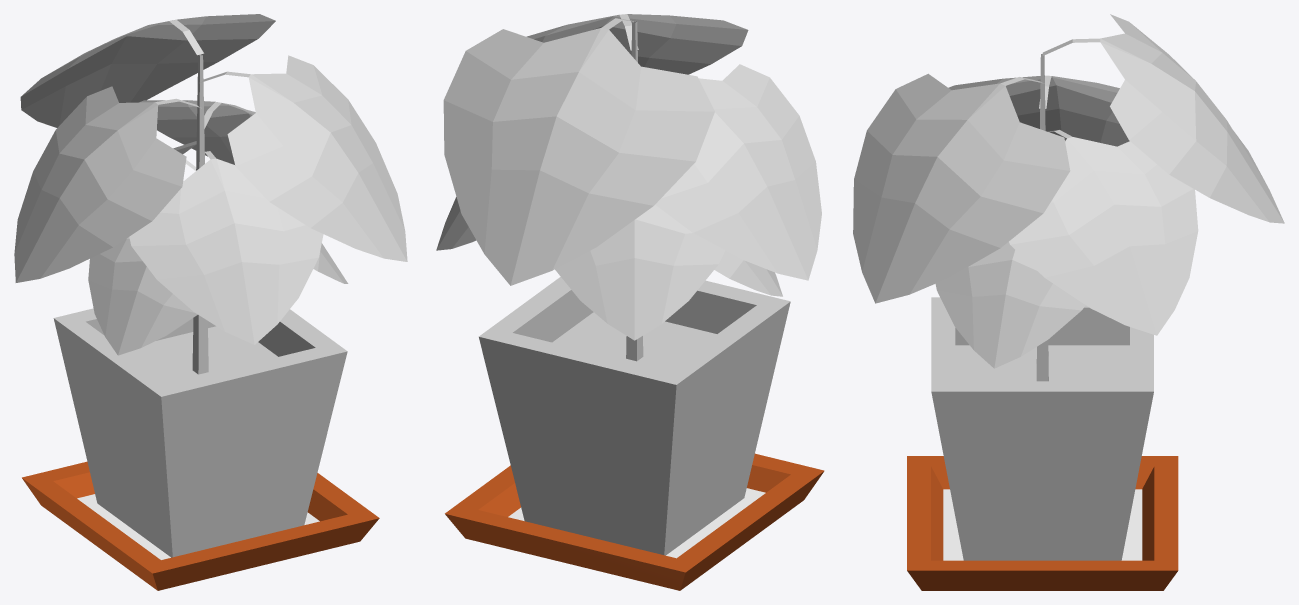
The model's file is Mini House Plant Both Faces.fbx.
The picture shows the model from 3 angles, left to right: view 1: azimuth 30°, elevation 25°; view 2: azimuth 150°, elevation 25°; view 3: azimuth 270°, elevation 25°; orthographic projection. The views are drawn at different scales.
Parts seen in each view (by area): view 1: Mini House Plant, Sauser; view 2: Mini House Plant, Sauser; view 3: Mini House Plant, Sauser.
Boxes of the visible parts, bbox=[...] form: Mini House Plant: bbox=[14, 14, 407, 557]; Sauser: bbox=[22, 461, 379, 590]; Mini House Plant: bbox=[436, 14, 821, 555]; Sauser: bbox=[445, 453, 824, 590]; Mini House Plant: bbox=[853, 14, 1284, 560]; Sauser: bbox=[907, 456, 1178, 590].
Size of the model in its own units: 29.45 by 41.24 by 32.3.
